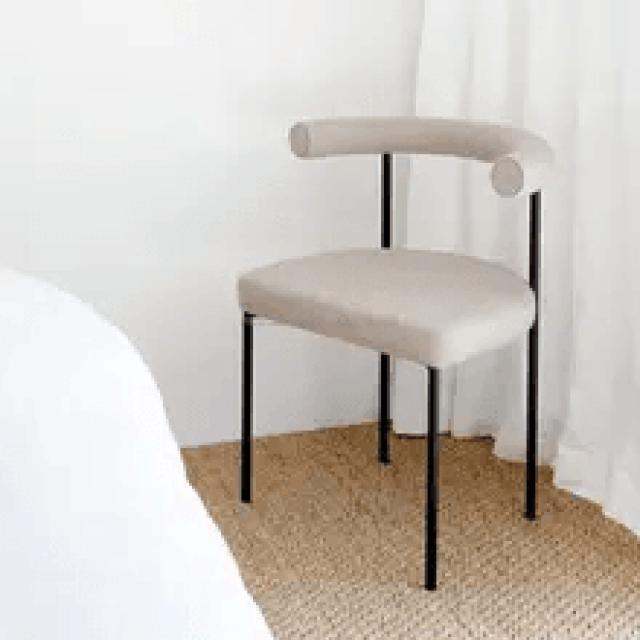chair: (232, 109, 560, 596), (218, 102, 559, 334)
